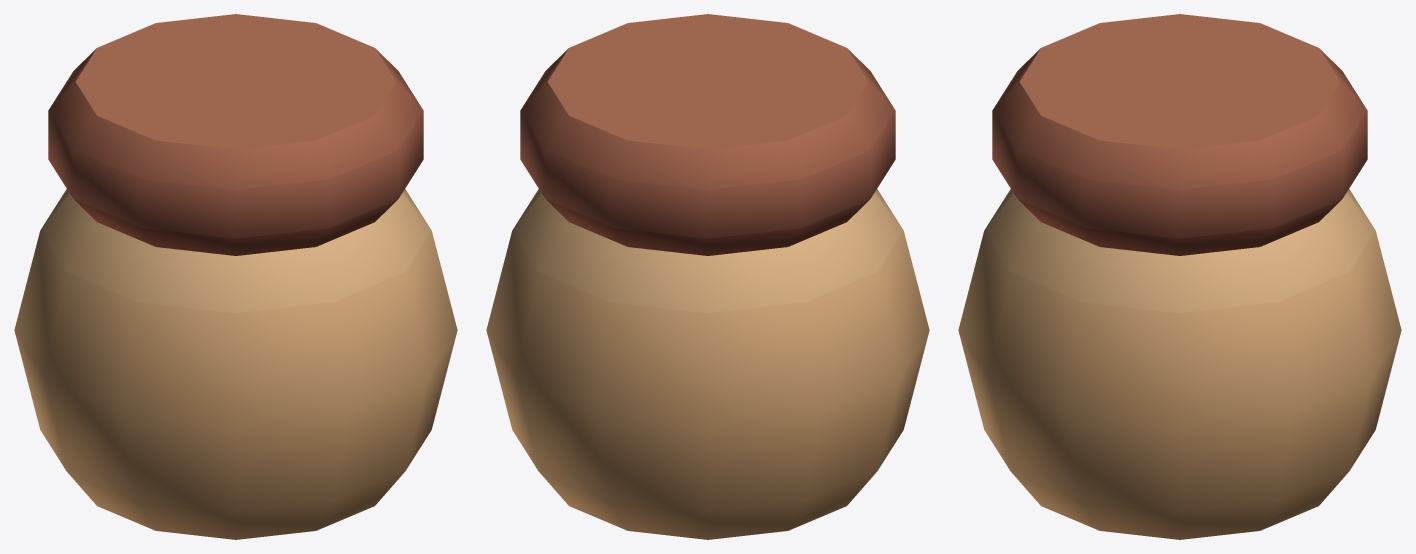
The model's file is jar_C_small.glb.
The picture shows the model from 3 angles, left to right: view 1: azimuth 30°, elevation 25°; view 2: azimuth 150°, elevation 25°; view 3: azimuth 270°, elevation 25°; orthographic projection.
Visible parts, largest first — view 1: jar_C_small; view 2: jar_C_small; view 3: jar_C_small.
Part boxes in pixels (left/top/right/bottom): jar_C_small: left=14, top=14, right=457, bottom=539; jar_C_small: left=486, top=14, right=929, bottom=539; jar_C_small: left=958, top=14, right=1401, bottom=539.
Size of the model in its own units: 0.566 by 0.55 by 0.566.
Materials: 1 (1 with a texture image).
